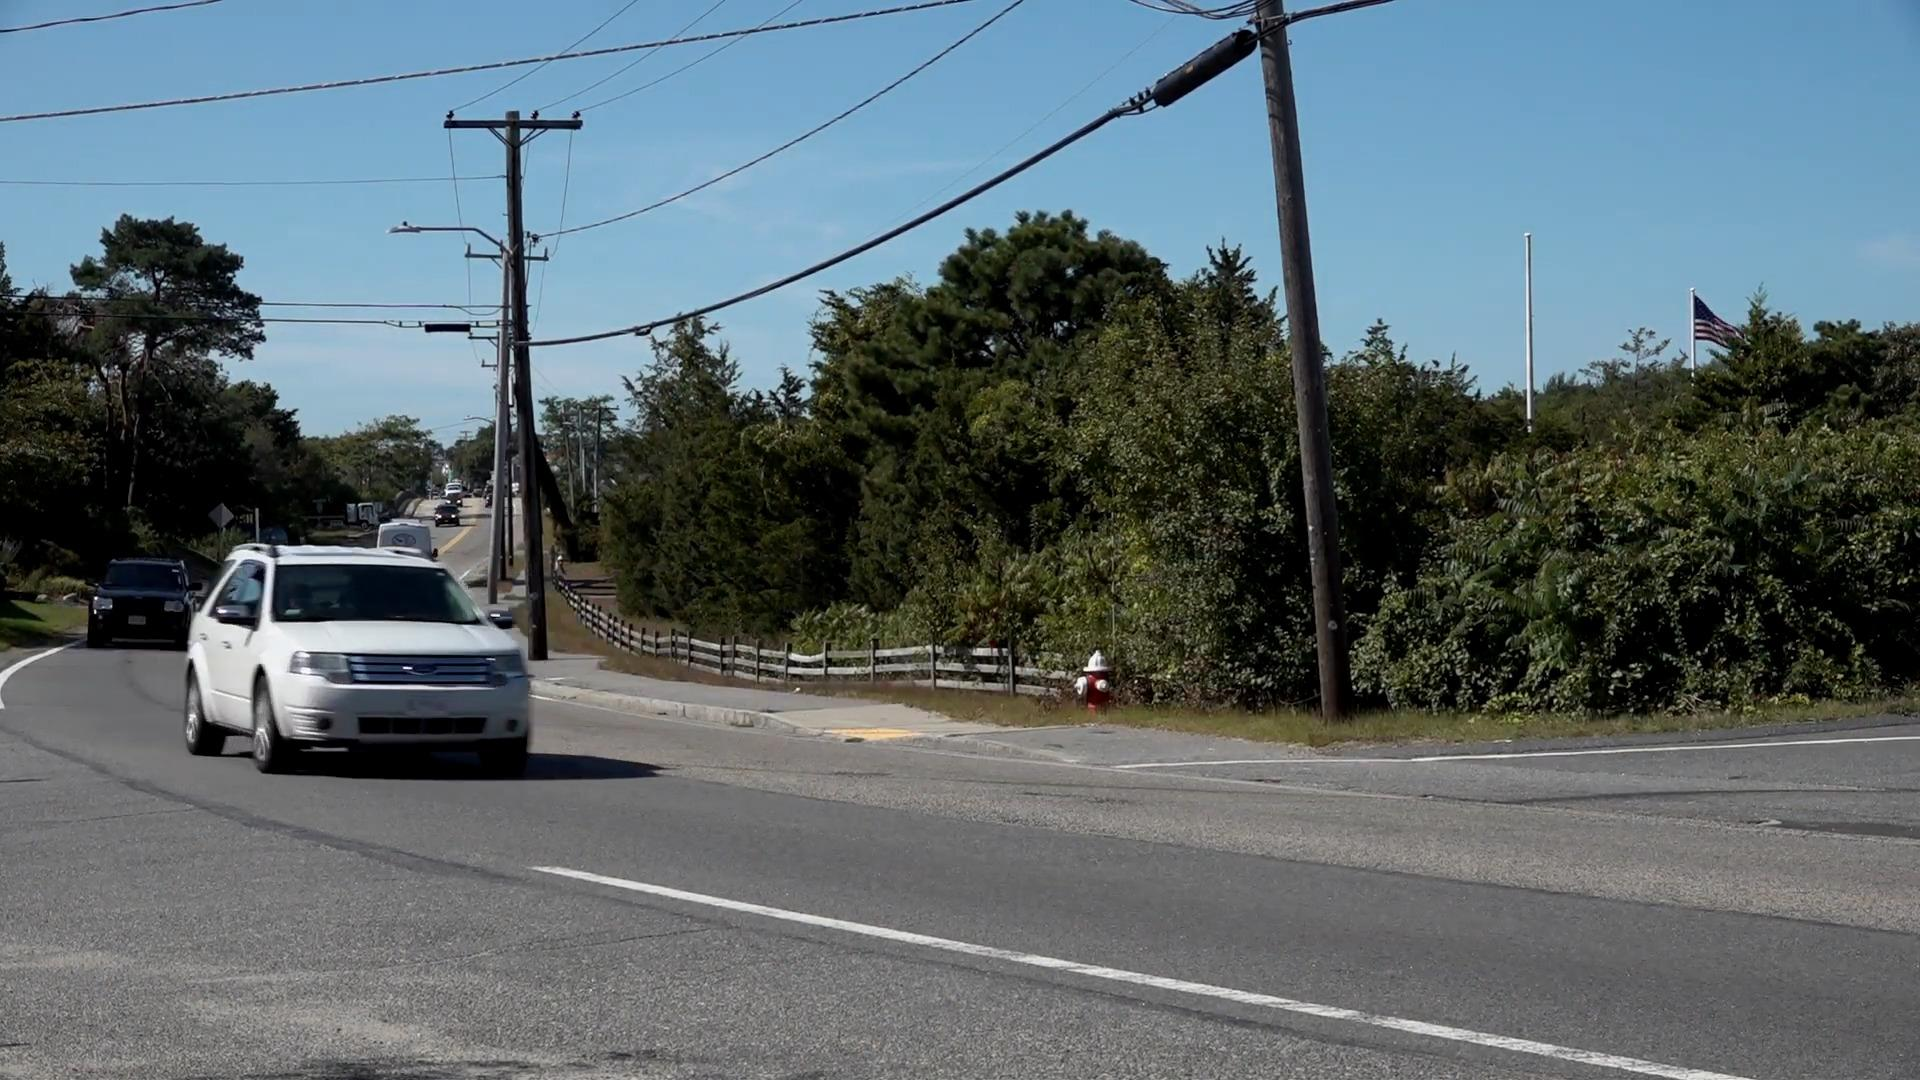suv: (183, 542, 530, 773), (87, 556, 194, 645)
